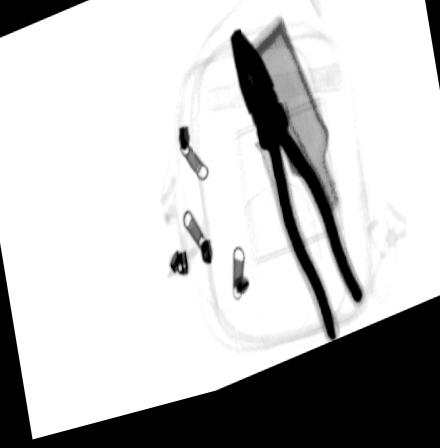Pliers: (230, 40, 368, 357)
